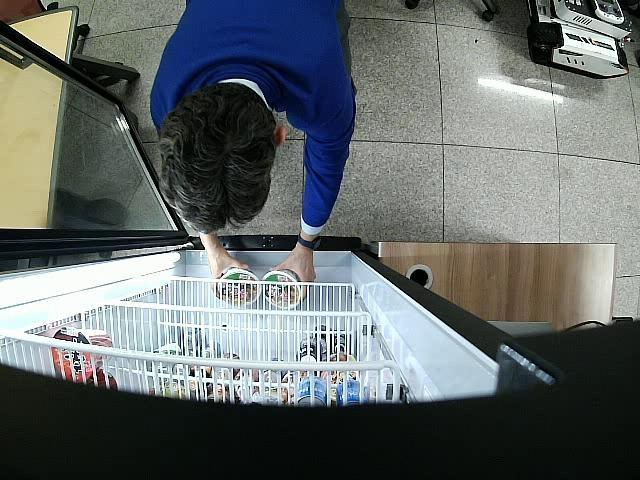09_yukGaeJang: (219, 268, 262, 306), (263, 270, 301, 310)
